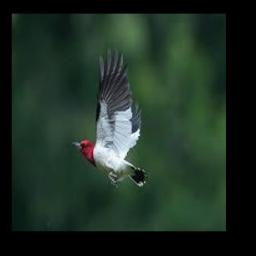Woodpecker: (72, 48, 150, 187)
